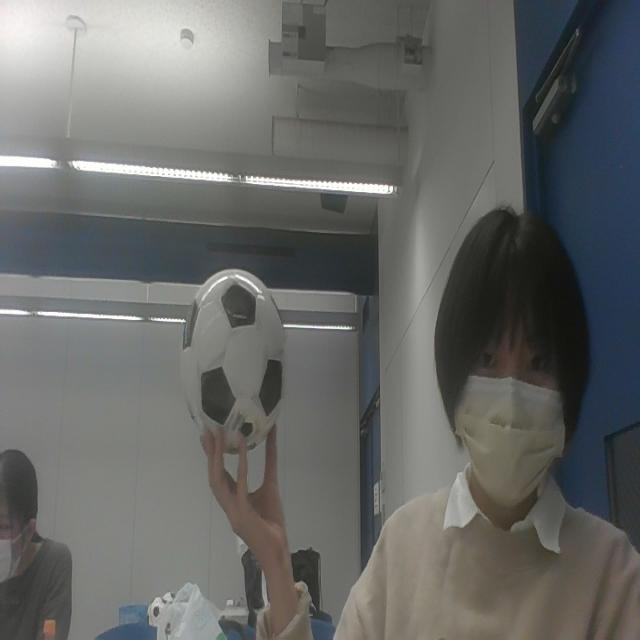ball: (185, 268, 283, 452)
